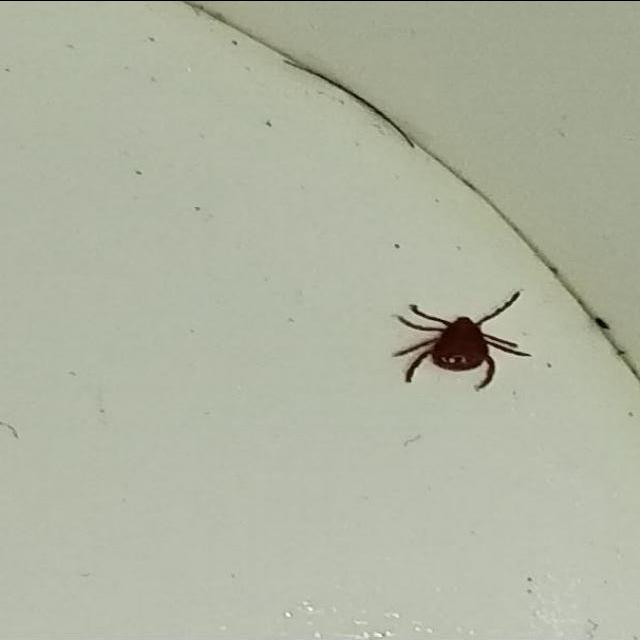Rhipicephalus Sanguineus-M: (390, 301, 531, 392)
